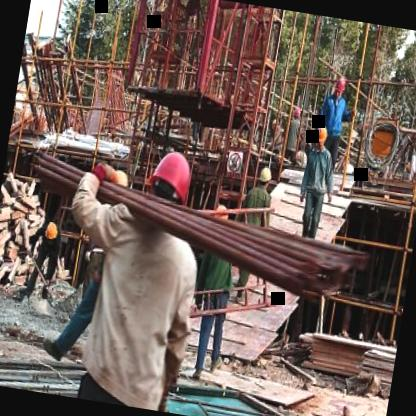helmet: (140, 141, 201, 222), (256, 162, 275, 193), (313, 123, 330, 150), (332, 73, 348, 101), (289, 102, 304, 120)
